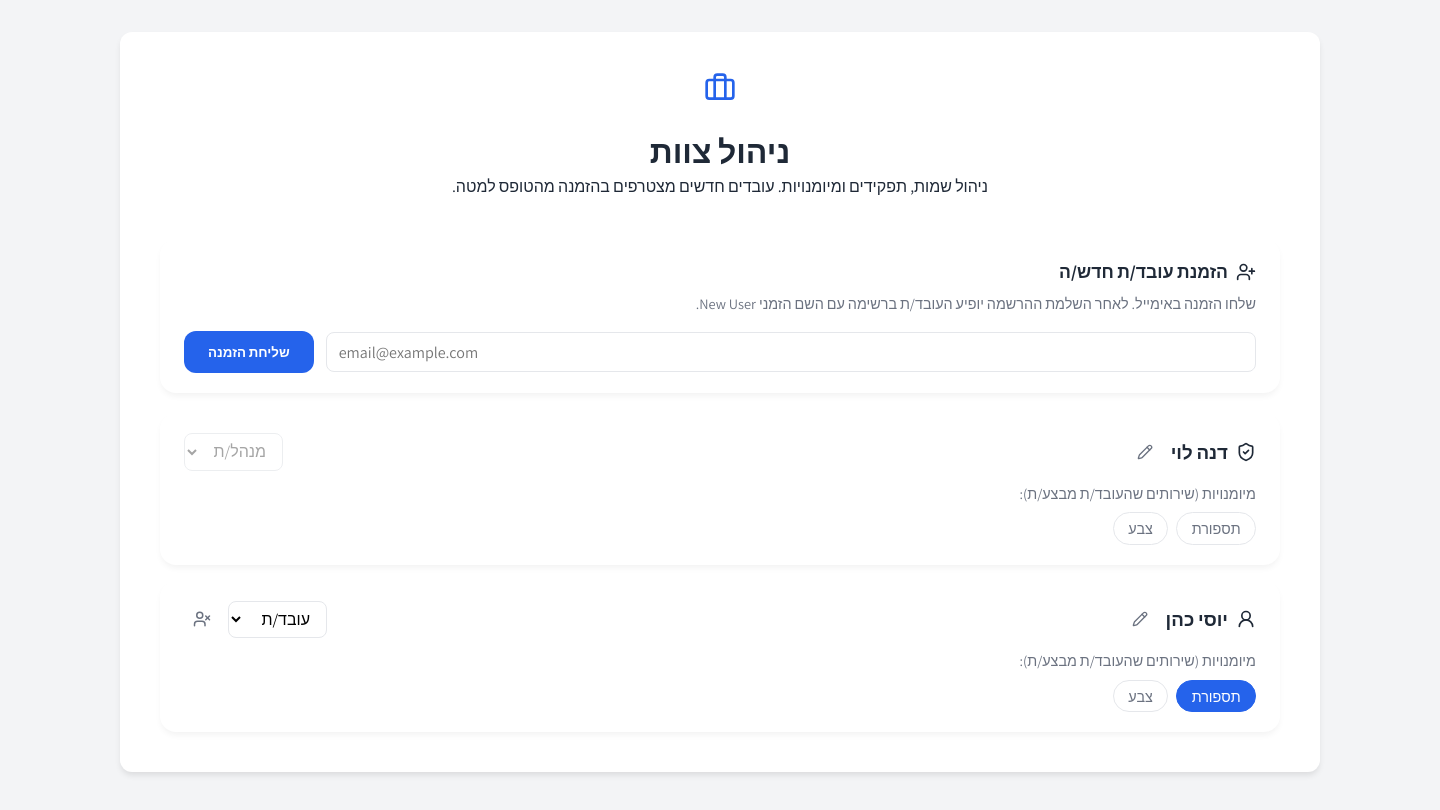
TeamPage › inviting a staff member › shows ALREADY_EXISTS as a friendly Hebrew error
The image size is (1440, 810).
Expected: the heading "דנה לוי" is shown, [1171,438,1228,466]
Type "taken@salon.com" into the field named "אימייל להזמנה".
click(791, 352); type("taken@salon.com")  # box [326,332,1256,372]
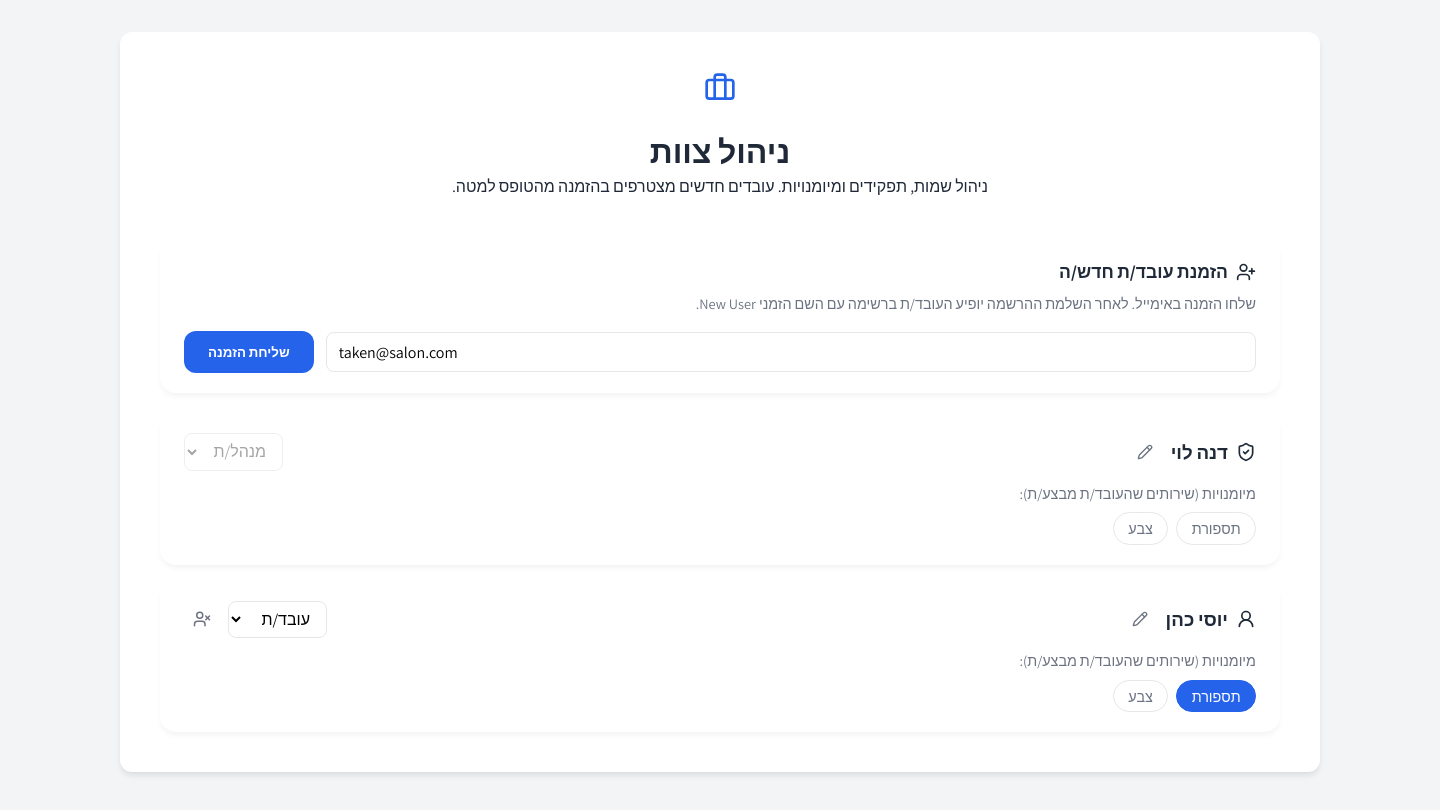
Click the button "שליחת הזמנה".
click(249, 352)  # box [184,331,314,373]
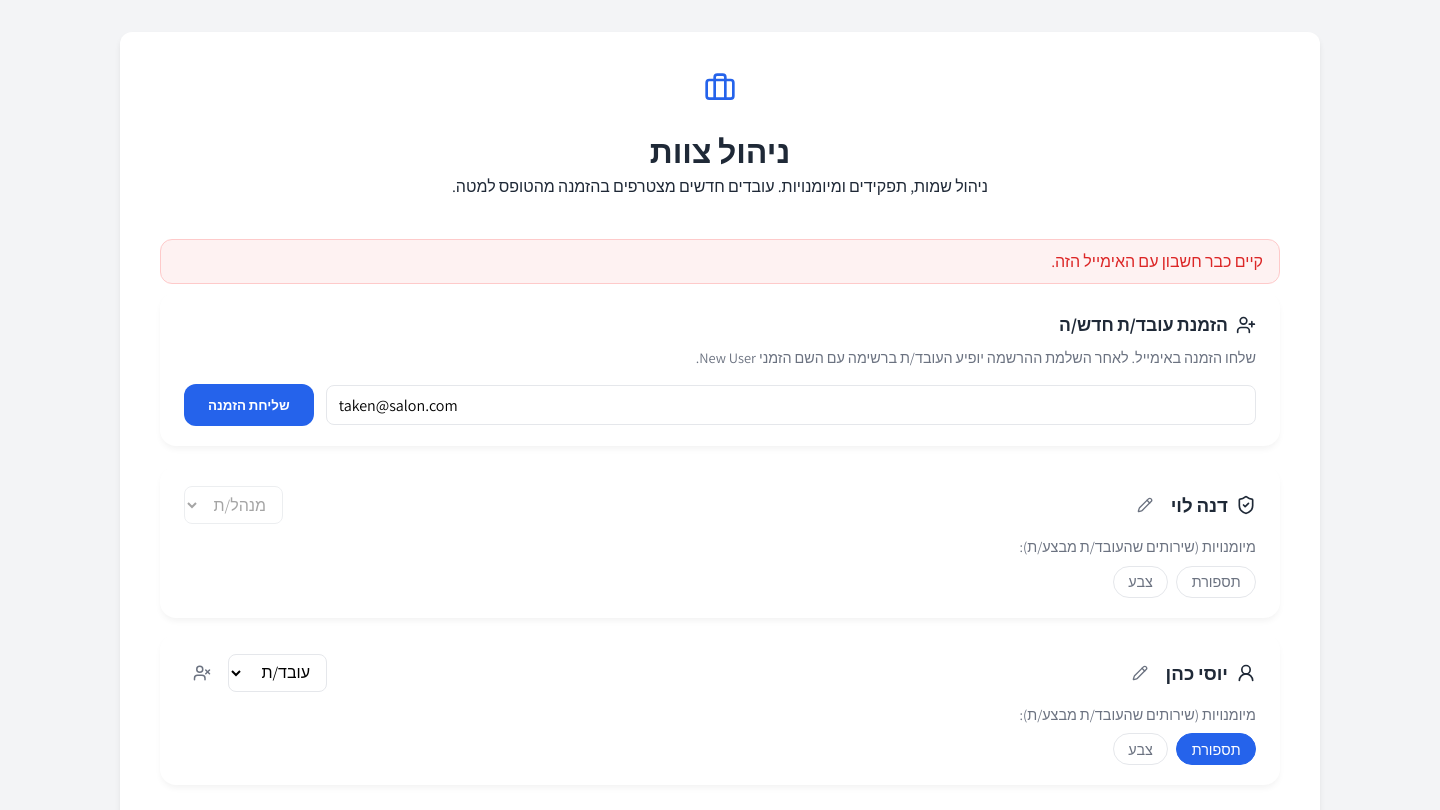
Expected: the text "קיים כבר חשבון עם האימייל הזה." is shown, [160,239,1280,284]
